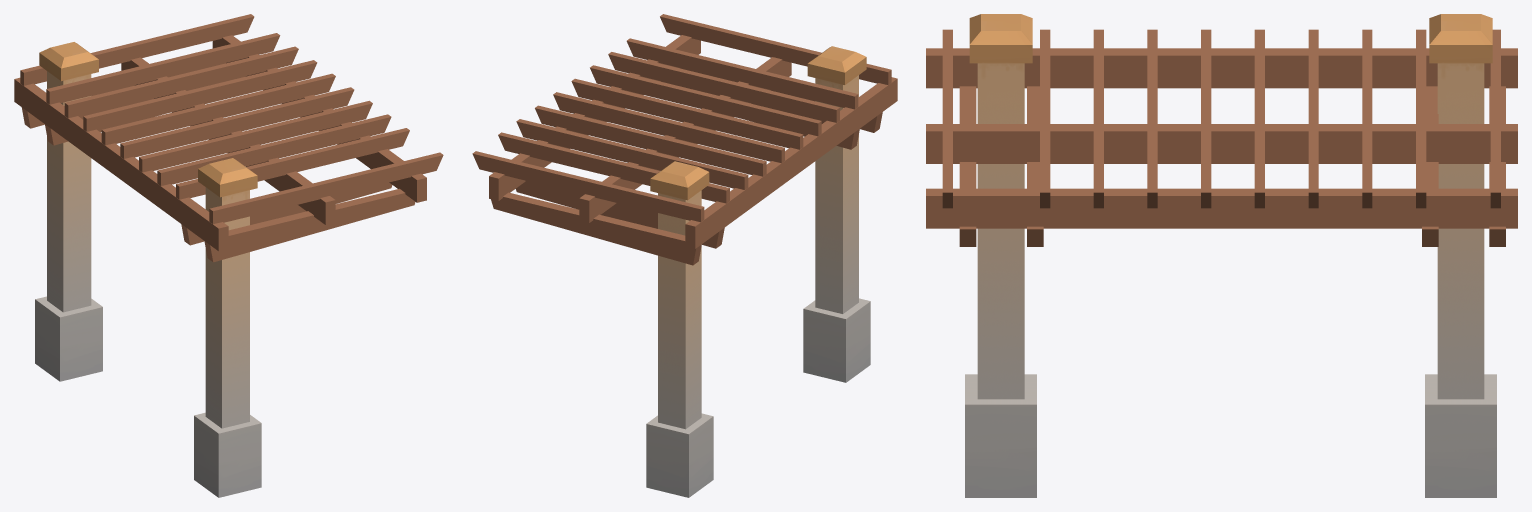
Rendered from GardenTerrace.fbx.
3 renders of one model, left to right at view 1: azimuth 30°, elevation 25°; view 2: azimuth 150°, elevation 25°; view 3: azimuth 270°, elevation 25°, orthographic. The views are drawn at different scales.
Visible parts, largest first — view 1: pCube1, pCube23, pCube3, pCube6, pCube15, pCube13, pCube22, pCube14, pCube16, pCube12, pCube17, pCube18 (+6 smaller); view 2: pCube23, pCube1, pCube3, pCube8, pCube16, pCube21, pCube14, pCube17, pCube15, pCube19, pCube18, pCube13 (+6 smaller); view 3: pCube1, pCube23, pCube5, pCube4, pCube3, pCube17, pCube12, pCube13, pCube14, pCube15, pCube16, pCube18 (+7 smaller).
Boxes of the visible parts, bbox=[...] form: pCube1: bbox=[194, 158, 261, 497]; pCube23: bbox=[35, 42, 102, 381]; pCube3: bbox=[14, 77, 228, 251]; pCube6: bbox=[204, 188, 415, 262]; pCube15: bbox=[101, 73, 335, 145]; pCube13: bbox=[64, 46, 298, 118]; pCube22: bbox=[209, 152, 443, 224]; pCube14: bbox=[83, 60, 317, 131]; pCube16: bbox=[120, 87, 354, 158]; pCube12: bbox=[46, 33, 280, 104]; pCube17: bbox=[139, 100, 372, 172]; pCube18: bbox=[157, 114, 391, 185]; pCube23: bbox=[646, 161, 713, 497]; pCube1: bbox=[803, 46, 870, 382]; pCube3: bbox=[685, 77, 897, 248]; pCube8: bbox=[491, 192, 701, 265]; pCube16: bbox=[571, 78, 803, 149]; pCube21: bbox=[472, 151, 704, 222]; pCube14: bbox=[535, 105, 766, 176]; pCube17: bbox=[590, 65, 821, 136]; pCube15: bbox=[553, 92, 784, 163]; pCube19: bbox=[626, 38, 858, 109]; pCube18: bbox=[608, 52, 839, 122]; pCube13: bbox=[516, 119, 748, 189]; pCube1: bbox=[965, 14, 1036, 497]; pCube23: bbox=[1425, 14, 1496, 497]; pCube5: bbox=[926, 188, 1517, 228]; pCube4: bbox=[926, 124, 1517, 163]; pCube3: bbox=[926, 48, 1517, 88]; pCube17: bbox=[1147, 29, 1157, 208]; pCube12: bbox=[1416, 29, 1426, 208]; pCube13: bbox=[1362, 29, 1372, 208]; pCube14: bbox=[1308, 29, 1318, 208]; pCube15: bbox=[1254, 29, 1264, 208]; pCube16: bbox=[1201, 29, 1211, 208]; pCube18: bbox=[1093, 29, 1103, 208].
Size of the model in its own units: 5.36 by 7.05 by 8.21.
